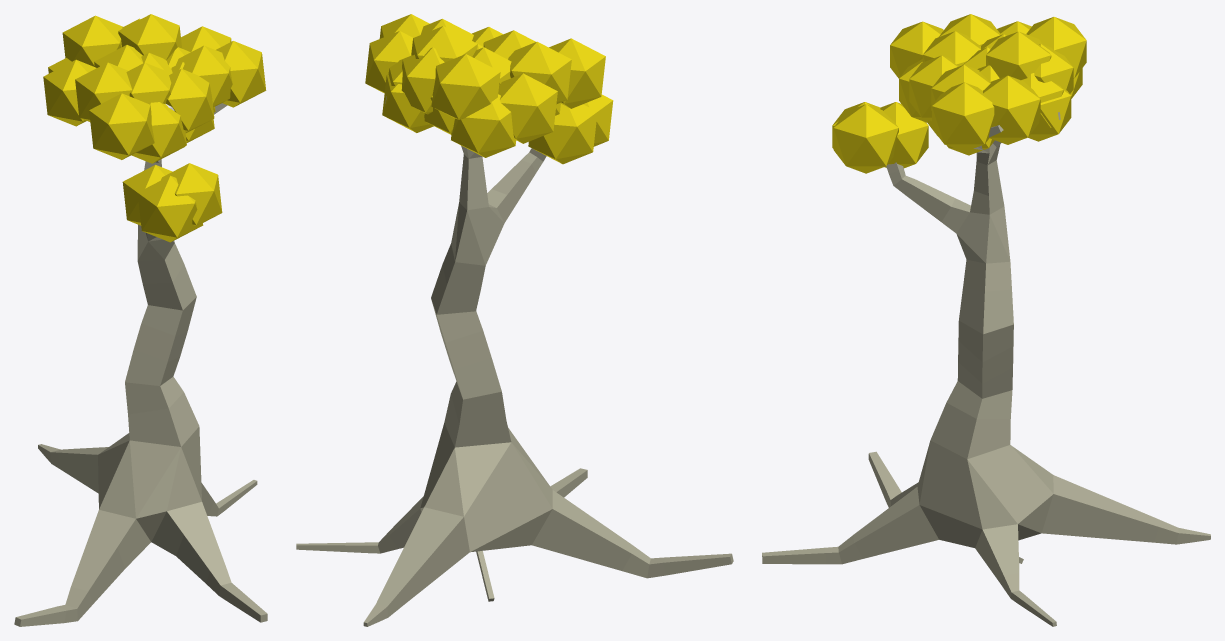
File: OldGammelring_tree.fbx
3 views of the same model, side by side, from view 1: azimuth 30°, elevation 25°; view 2: azimuth 150°, elevation 25°; view 3: azimuth 270°, elevation 25° (orthographic). The views are drawn at different scales.
Visible parts, largest first — view 1: Cube, Icosphere.003, Icosphere.002, Icosphere.007, Icosphere.022, Icosphere.015, Icosphere.004, Icosphere, Icosphere.005, Icosphere.009, Icosphere.023, Icosphere.020 (+4 smaller); view 2: Cube, Icosphere.007, Icosphere.004, Icosphere.001, Icosphere.025, Icosphere.003, Icosphere.005, Icosphere.008, Icosphere.016, Icosphere.009, Icosphere.013, Icosphere.002 (+3 smaller); view 3: Cube, Icosphere, Icosphere.015, Icosphere.016, Icosphere.009, Icosphere.001, Icosphere.007, Icosphere.003, Icosphere.022, Icosphere.011, Icosphere.013, Icosphere.008 (+4 smaller).
Boxes of the visible parts, bbox=[...] form: Cube: bbox=[14, 103, 267, 626]; Icosphere.003: bbox=[89, 93, 154, 159]; Icosphere.002: bbox=[138, 175, 203, 242]; Icosphere.007: bbox=[62, 15, 122, 66]; Icosphere.022: bbox=[166, 68, 214, 132]; Icosphere.015: bbox=[216, 41, 266, 107]; Icosphere.004: bbox=[43, 59, 96, 126]; Icosphere: bbox=[161, 163, 222, 225]; Icosphere.005: bbox=[75, 62, 132, 121]; Icosphere.009: bbox=[118, 14, 181, 60]; Icosphere.023: bbox=[176, 45, 232, 106]; Icosphere.020: bbox=[134, 102, 186, 162]; Cube: bbox=[296, 96, 733, 626]; Icosphere.007: bbox=[431, 54, 500, 119]; Icosphere.004: bbox=[498, 73, 557, 143]; Icosphere.001: bbox=[528, 104, 596, 164]; Icosphere.025: bbox=[451, 94, 516, 157]; Icosphere.003: bbox=[549, 38, 605, 108]; Icosphere.005: bbox=[508, 41, 571, 104]; Icosphere.008: bbox=[401, 47, 444, 114]; Icosphere.016: bbox=[365, 31, 412, 93]; Icosphere.009: bbox=[411, 26, 477, 62]; Icosphere.013: bbox=[382, 74, 433, 132]; Icosphere.002: bbox=[583, 94, 613, 146]; Cube: bbox=[762, 112, 1210, 626]; Icosphere: bbox=[833, 104, 898, 173]; Icosphere.015: bbox=[932, 82, 994, 151]; Icosphere.016: bbox=[983, 75, 1040, 144]; Icosphere.009: bbox=[986, 31, 1051, 80]; Icosphere.001: bbox=[880, 102, 928, 168]; Icosphere.007: bbox=[1026, 17, 1086, 78]; Icosphere.003: bbox=[890, 21, 943, 78]; Icosphere.022: bbox=[909, 55, 959, 121]; Icosphere.011: bbox=[922, 31, 980, 66]; Icosphere.013: bbox=[1028, 89, 1071, 141]; Icosphere.008: bbox=[1034, 44, 1073, 93].
Size of the model in its own units: 1026 by 1595 by 1169.
